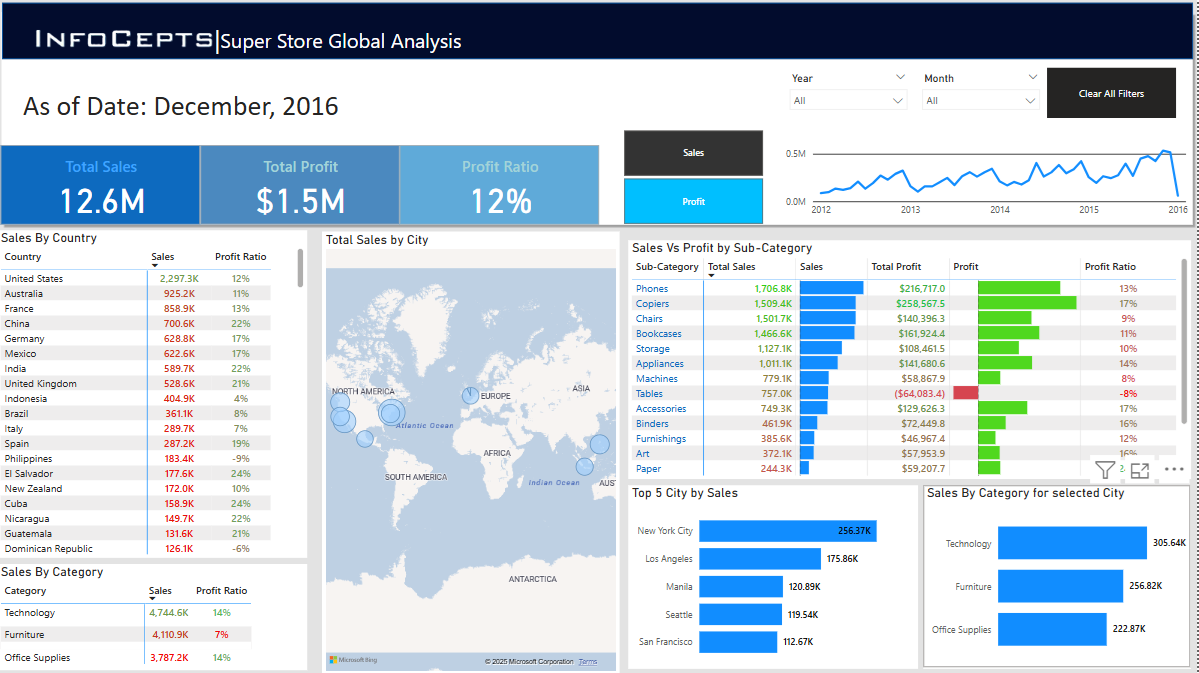

This screenshot's page, from the dashboard's own definition file:
{"tool":"powerbi","page":{"name":"Global Analysis","canvas":[1600,900],"ordinal":0},"visuals":[{"type":"shape","box":[0,12.3,1600,295.4],"z":0},{"type":"cardVisual","fields":{"Data":["Global Superstore- Orders.Total Sales","Global Superstore- Orders.Total Profit","Global Superstore- Orders.Profit Ratio"]},"box":[0,190.8,810.8,116.9],"z":1000},{"type":"lineChart","fields":{"Y":["Global Superstore- Orders.Total Sales"],"Category":["Global Superstore- Date Table.Date.Variation.Date Hierarchy.Year","Global Superstore- Date Table.Date.Variation.Date Hierarchy.Quarter","Global Superstore- Date Table.Date.Variation.Date Hierarchy.Month"]},"box":[1046.2,180,546.2,120],"z":2000},{"type":"pivotTable","title":"Sales By Country","fields":{"Values":["Sum(Global Superstore- Orders.Sales)","Global Superstore- Orders.Profit Ratio"],"Rows":["Global Superstore- Orders.Country"]},"box":[0,307.7,413.8,436.9],"z":3000},{"type":"shape","box":[6,5,1588,75.4],"z":4000},{"type":"image","box":[7.7,13.8,321.5,75.4],"z":5000},{"type":"textbox","box":[284.6,26.2,347.7,61.5],"z":6000},{"type":"slicer","fields":{"Values":["Parameter.Parameter"]},"box":[810.8,168,235.4,138.5],"z":7000},{"type":"pivotTable","title":"Sales By Category","fields":{"Values":["Sum(Global Superstore- Orders.Sales)","Global Superstore- Orders.Profit Ratio"],"Rows":["Global Superstore- Orders.Category"]},"box":[0,753,413.8,141.5],"z":8000},{"type":"map","title":"Total Sales by City","fields":{"Category":["Global Superstore- Orders.City"],"Size":["Sum(Global Superstore- Orders.Sales)"],"Series":["Global Superstore- Orders.Country"]},"box":[433.8,309.2,396.9,590.8],"z":9000},{"type":"slicer","fields":{"Values":["Global Superstore- Date Table.Date.Variation.Date Hierarchy.Year"]},"box":[1046.2,92.3,176.9,76.9],"z":10000},{"type":"slicer","fields":{"Values":["Global Superstore- Date Table.Date.Variation.Date Hierarchy.Month"]},"box":[1223.1,92.3,176.9,76.9],"z":11000},{"type":"bookmarkNavigator","box":[1400,92.3,172.3,67.7],"z":12000},{"type":"pivotTable","title":"Sales Vs Profit by Sub-Category","fields":{"Values":["Global Superstore- Orders.Total Sales","Sum(Global Superstore- Orders.Sales)","Global Superstore- Orders.Total Profit","Sum(Global Superstore- Orders.Profit)","Global Superstore- Orders.Profit Ratio"],"Rows":["Global Superstore- Orders.Sub-Category"]},"box":[841.5,321.5,750.8,318.5],"z":13000},{"type":"barChart","title":"Top 5 City by Sales","fields":{"Category":["Global Superstore- Orders.City"],"Y":["Global Superstore- Orders.Total Sales"]},"box":[841.5,647.7,386.2,244.6],"z":14000},{"type":"barChart","title":"Sales By Category for selected City","fields":{"Y":["Global Superstore- Orders.Total Sales"],"Category":["Global Superstore- Orders.Category"]},"box":[1235.4,647.7,356.9,244.6],"z":15000},{"type":"card","fields":{"Values":["Global Superstore- Orders.AsOfDate"]},"box":[21.5,100,447.7,80],"z":15001}]}

Visuals, with their boxes in screenshot pixels (x1, y1, x2, y2), scaled from the page's 1600x900 canvas onto the 1199x673 screenshot:
shape: bbox=(0, 9, 1198, 230)
cardVisual - Global Superstore- Orders.Total Sales x Global Superstore- Orders.Total Profit: bbox=(0, 143, 608, 230)
lineChart - Global Superstore- Orders.Total Sales x Global Superstore- Date Table.Date.Variation.Date Hierarchy.Year: bbox=(784, 135, 1193, 224)
"Sales By Country" pivotTable: bbox=(0, 230, 310, 557)
shape: bbox=(4, 4, 1195, 60)
image: bbox=(6, 10, 247, 67)
textbox: bbox=(213, 20, 474, 66)
slicer - Parameter.Parameter: bbox=(608, 126, 784, 229)
"Sales By Category" pivotTable: bbox=(0, 563, 310, 669)
"Total Sales by City" map: bbox=(325, 231, 623, 672)
slicer - Global Superstore- Date Table.Date.Variation.Date Hierarchy.Year: bbox=(784, 69, 917, 127)
slicer - Global Superstore- Date Table.Date.Variation.Date Hierarchy.Month: bbox=(917, 69, 1049, 127)
bookmarkNavigator: bbox=(1049, 69, 1178, 120)
"Sales Vs Profit by Sub-Category" pivotTable: bbox=(631, 240, 1193, 479)
"Top 5 City by Sales" barChart: bbox=(631, 484, 920, 667)
"Sales By Category for selected City" barChart: bbox=(926, 484, 1193, 667)
card - Global Superstore- Orders.AsOfDate: bbox=(16, 75, 352, 135)
